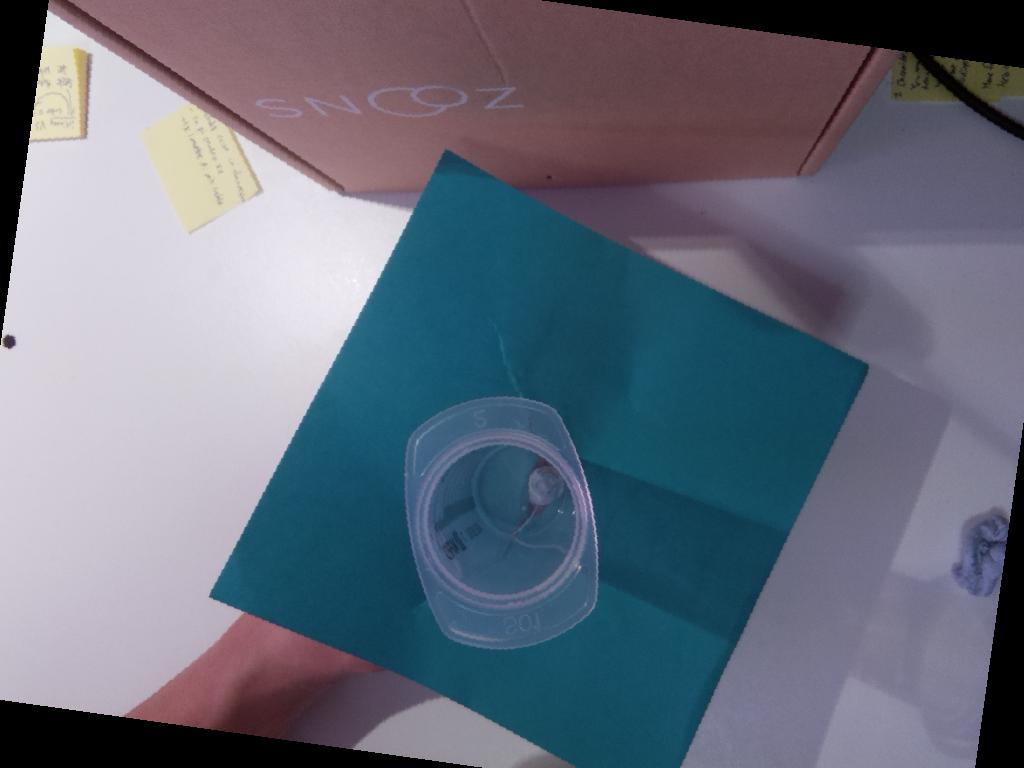clean: (403, 395, 598, 652)
